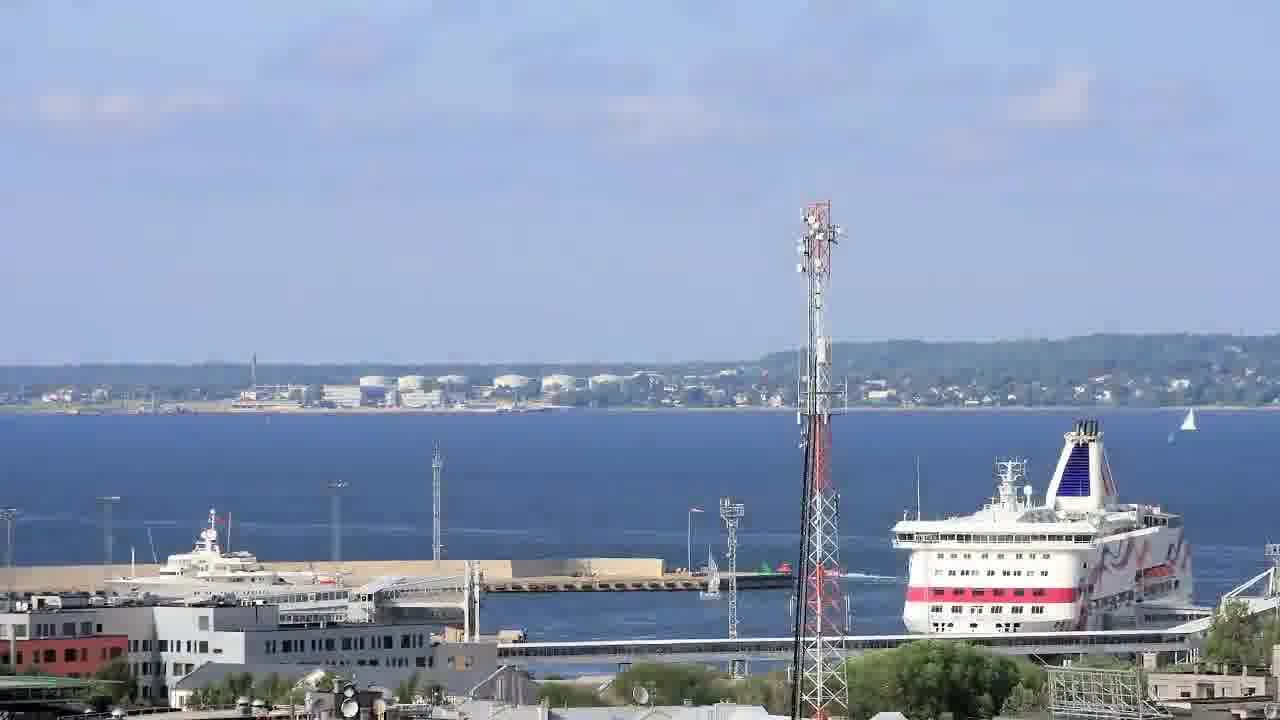type-2: (686, 536, 742, 616), (1165, 391, 1221, 446)
type-3: (868, 415, 1225, 638), (84, 511, 353, 609)
